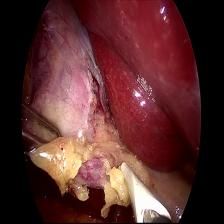Grasper: (19, 100, 66, 158)
Hook: (113, 162, 170, 222)
